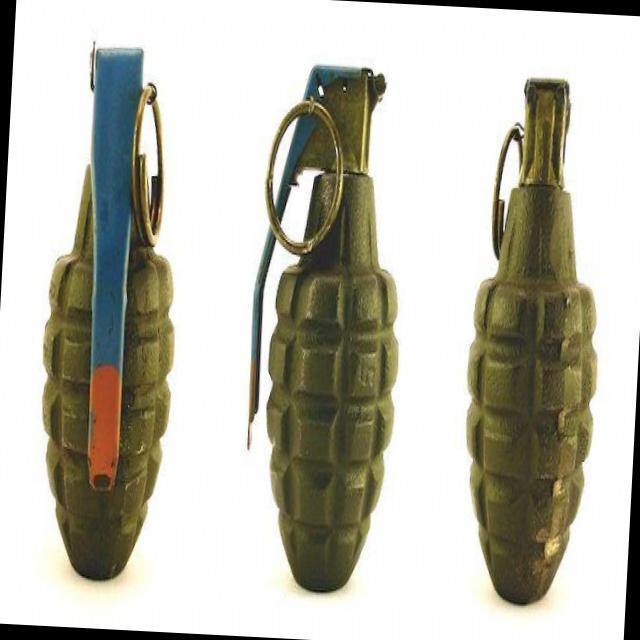grenade: (229, 15, 423, 597), (19, 19, 202, 583), (450, 43, 622, 615)
